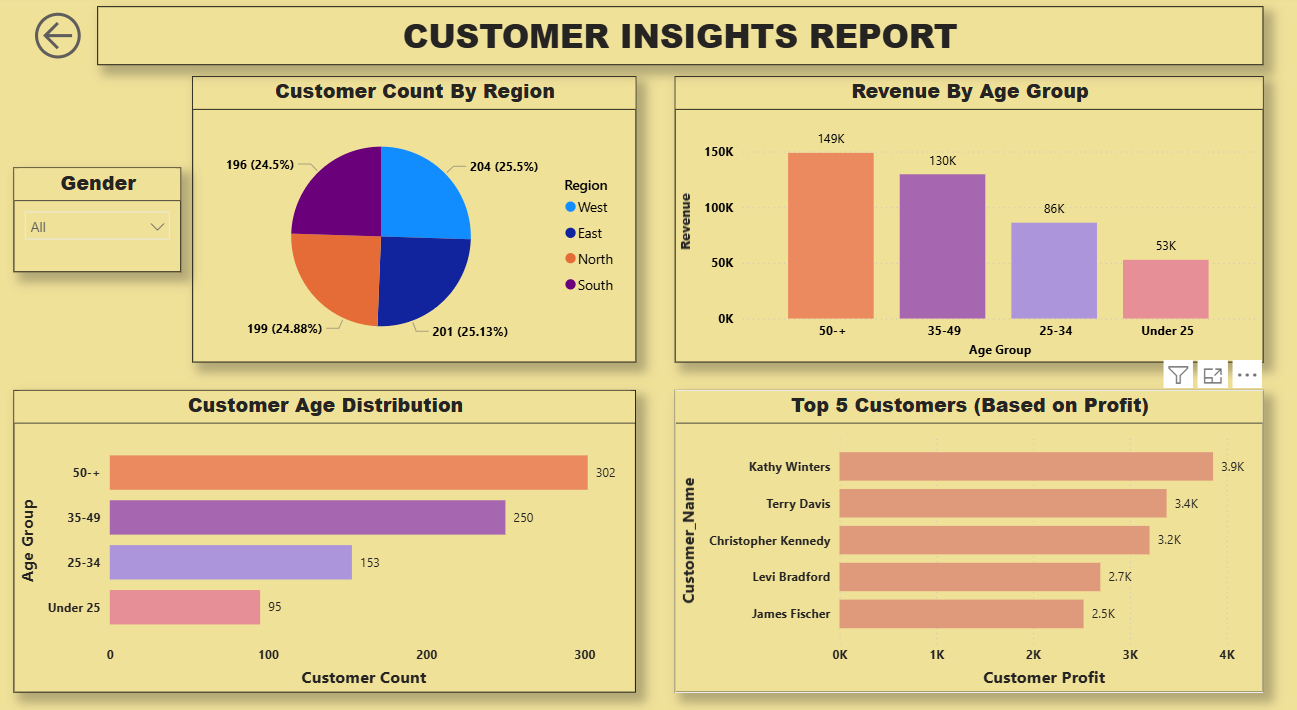

The dashboard page shown, as its layout file describes it:
{"tool":"powerbi","page":{"name":"Page 2","canvas":[1280,720],"ordinal":1},"visuals":[{"type":"pieChart","title":"Customer Count By Region","fields":{"Category":["customers_cleaned.region"],"Y":["customers_cleaned.Customer Count"]},"box":[192,79.5,434.1,280],"z":0},{"type":"clusteredBarChart","title":"Customer Age Distribution","fields":{"Category":["customers_cleaned.age_group"],"Y":["customers_cleaned.Customer Count"]},"box":[17.1,386.4,609,295.9],"z":1000},{"type":"clusteredColumnChart","title":"Revenue By Age Group","fields":{"Category":["customers_cleaned.age_group"],"Y":["sales_cleaned.Total Revenue Last 12 Months (Max Date)"]},"box":[664,79.5,576,280],"z":2000},{"type":"clusteredBarChart","title":"Top 5 Customers (Based on  Profit)","fields":{"Y":["customers_cleaned.Customer Profit"],"Category":["customers_cleaned.Customer_Name"]},"box":[664,386.4,576,295.9],"z":3000},{"type":"slicer","title":"Gender","fields":{"Values":["customers_cleaned.gender"]},"box":[17.1,168.8,163.9,102.7],"z":4000},{"type":"textbox","box":[99,11,1140.9,57.5],"z":5000},{"type":"actionButton","box":[31.8,11,57.5,57.5],"z":6000}]}

Visuals, with their boxes in screenshot pixels (x1, y1, x2, y2), scaled from the page's 1280x720 canvas onto the 1297x710 screenshot:
"Customer Count By Region" pieChart: x1=195 y1=78 x2=634 y2=355
"Customer Age Distribution" clusteredBarChart: x1=17 y1=381 x2=634 y2=673
"Revenue By Age Group" clusteredColumnChart: x1=673 y1=78 x2=1256 y2=355
"Top 5 Customers (Based on  Profit)" clusteredBarChart: x1=673 y1=381 x2=1256 y2=673
"Gender" slicer: x1=17 y1=166 x2=183 y2=268
textbox: x1=100 y1=11 x2=1256 y2=68
actionButton: x1=32 y1=11 x2=90 y2=68
